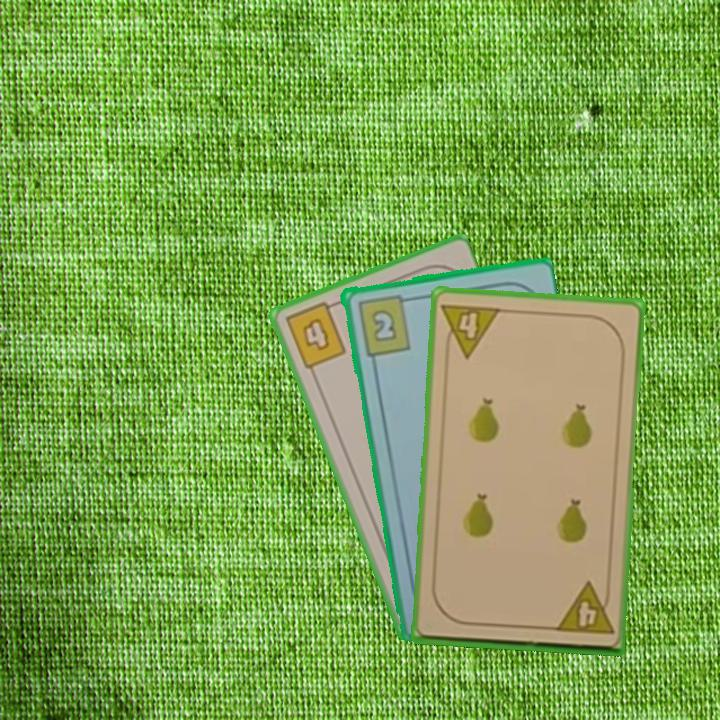2b: (353, 290, 415, 358)
4b: (281, 297, 349, 372)
4p: (438, 300, 503, 361), (551, 579, 616, 638)
